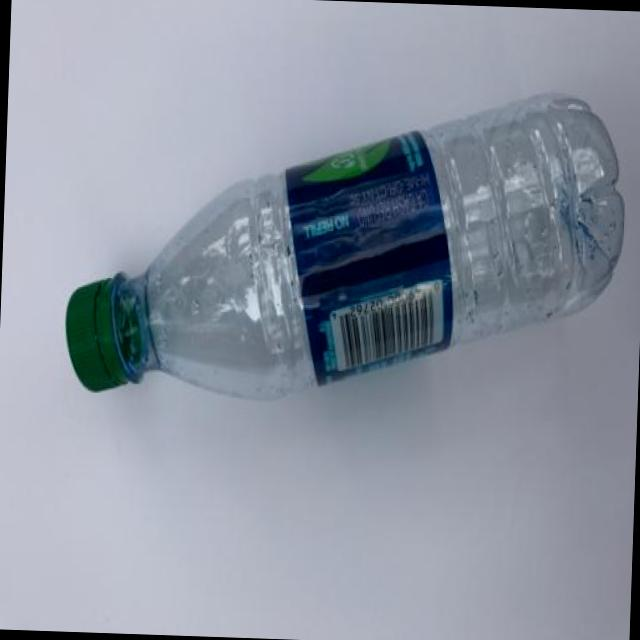Recycle: (60, 76, 631, 414)
